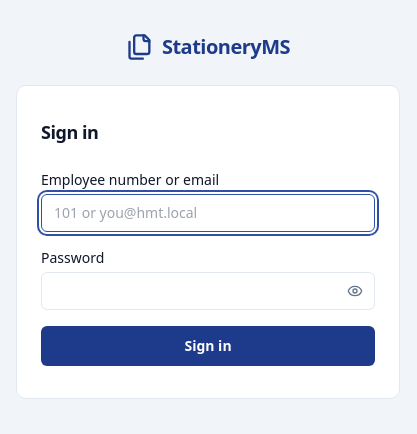
Scenario: Login page › explains a malformed identifier separately from bad credentials
This screenshot has width=417, height=434.
Step 1. Type "not-an-email" into the field labelled "Employee number or email" → {"x": 208, "y": 213}, box top-left (41, 194), bottom-right (375, 232)
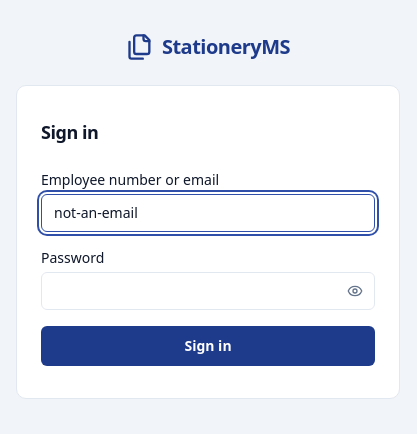
Step 2. Type "Password1!" into the password field labelled "Password" → {"x": 208, "y": 291}, box top-left (41, 272), bottom-right (375, 310)
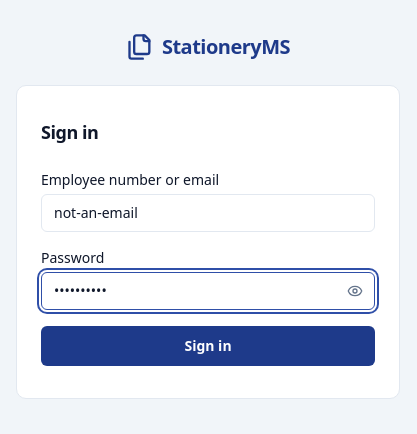
Step 3. Click the button "Sign in" → {"x": 208, "y": 346}, box top-left (41, 326), bottom-right (375, 366)
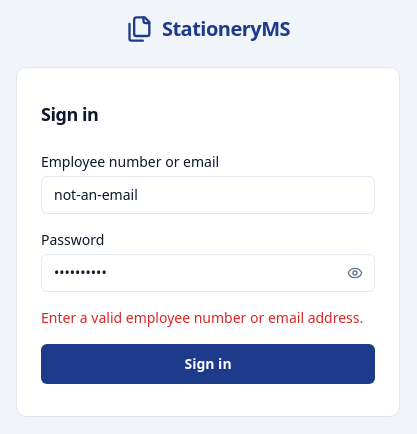
Check: the message shows "valid employee number or email", box top-left (41, 308), bottom-right (363, 327)
